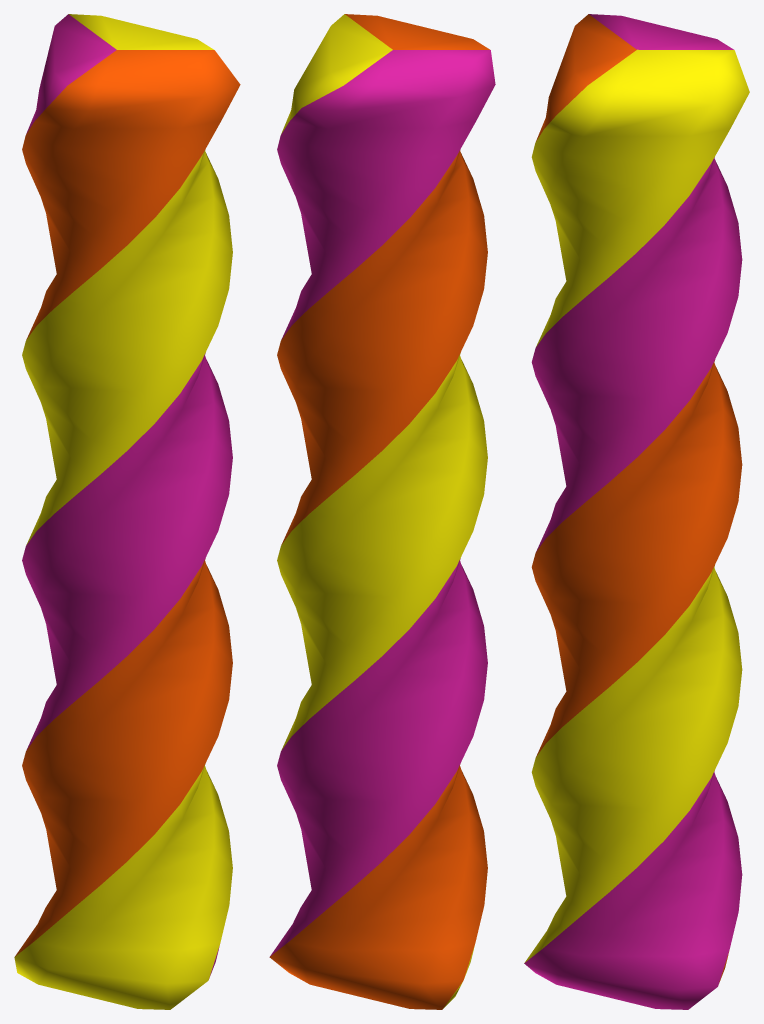
The model's file is lollipop_019.glb.
3 views of the same model, side by side, from view 1: azimuth 30°, elevation 25°; view 2: azimuth 150°, elevation 25°; view 3: azimuth 270°, elevation 25° (orthographic).
Parts seen in each view (by area): view 1: lollipop_019; view 2: lollipop_019; view 3: lollipop_019.
Part boxes in pixels (x1,y1,x2,y2): lollipop_019: (14, 14, 240, 1009); lollipop_019: (269, 14, 495, 1009); lollipop_019: (524, 14, 749, 1009).
Size of the model in its own units: 1.66 by 7.79 by 1.73.
Materials: 1 (1 with a texture image).
